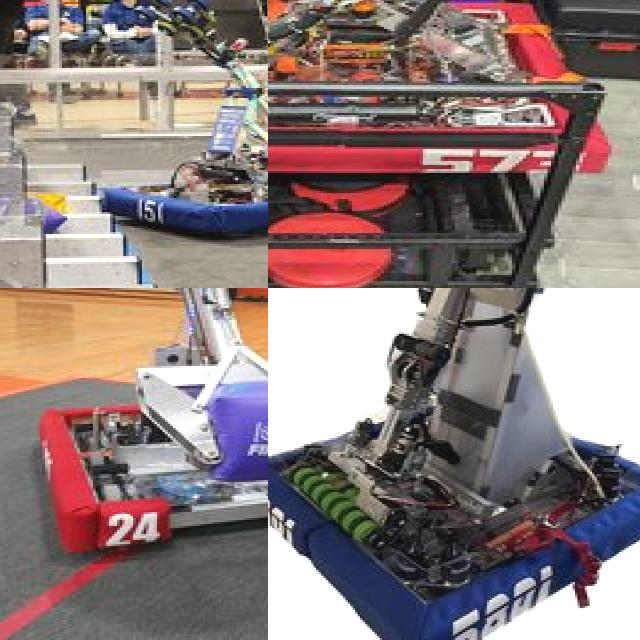FRC-Robots: (268, 288, 640, 640), (268, 0, 640, 288), (2, 288, 268, 556), (66, 0, 268, 237)
